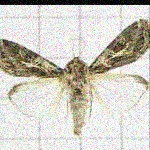Spodoptera litura: (0, 18, 149, 136)
